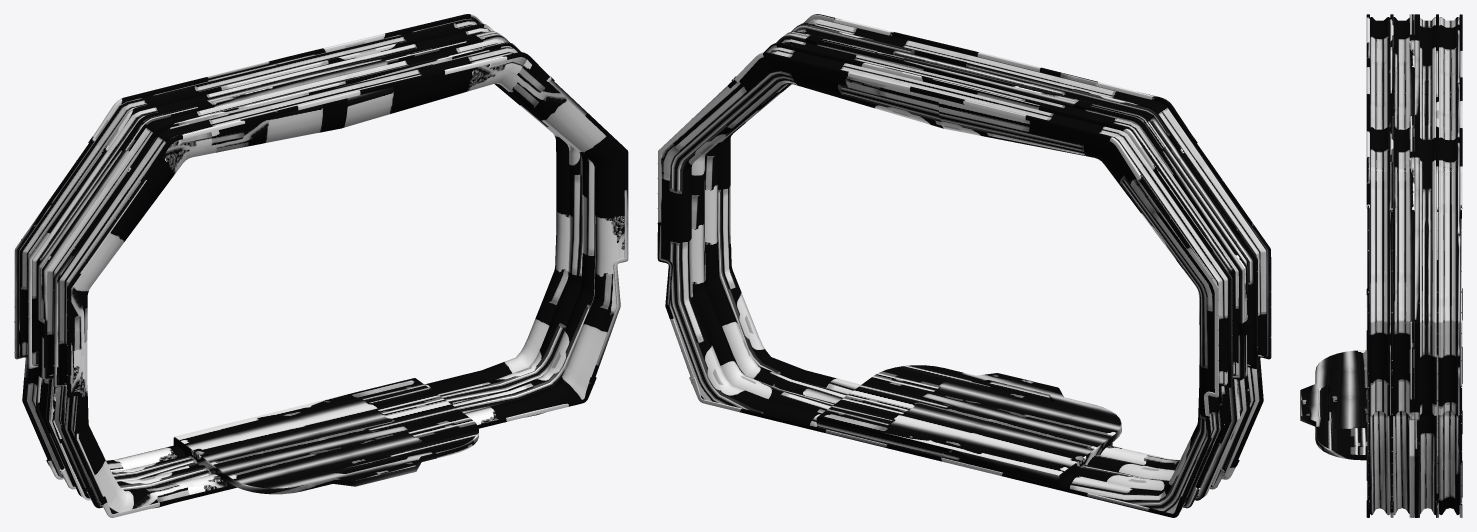
Rendered from SK_Connector_AsStaticMesh.fbx.
3 views of the same model, side by side, from view 1: azimuth 30°, elevation 25°; view 2: azimuth 150°, elevation 25°; view 3: azimuth 270°, elevation 25° (orthographic). The views are drawn at different scales.
Parts seen in each view (by area): view 1: SK_Connector_AsStaticMesh_LOD0; view 2: SK_Connector_AsStaticMesh_LOD0; view 3: SK_Connector_AsStaticMesh_LOD0.
Part boxes in pixels (x1,y1,x2,y2): SK_Connector_AsStaticMesh_LOD0: [14, 14, 628, 517]; SK_Connector_AsStaticMesh_LOD0: [657, 14, 1271, 517]; SK_Connector_AsStaticMesh_LOD0: [1300, 14, 1462, 517].
Bounding box in the file's own units: 427 × 120 × 267.
